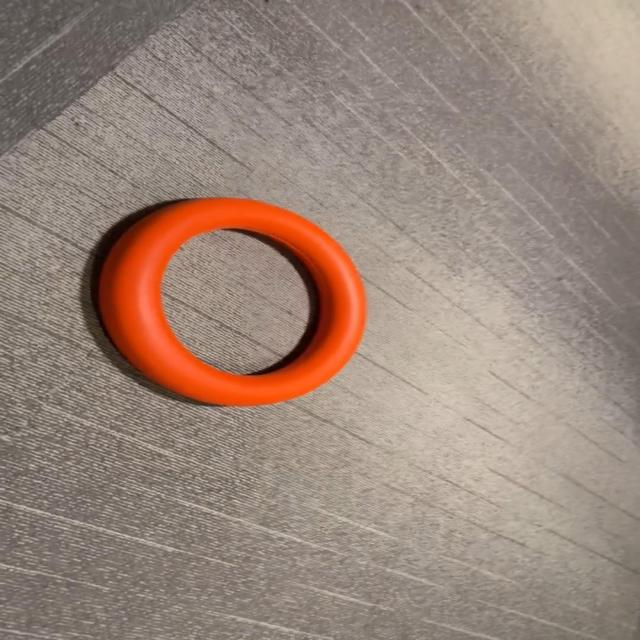note: (100, 194, 370, 408)
